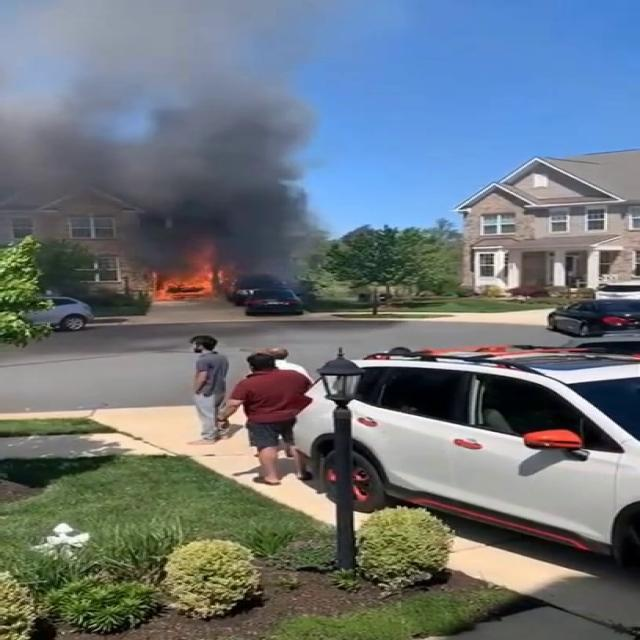Smoke: (1, 0, 352, 291)
